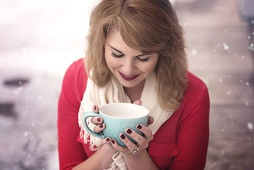female: (90, 4, 169, 87)
